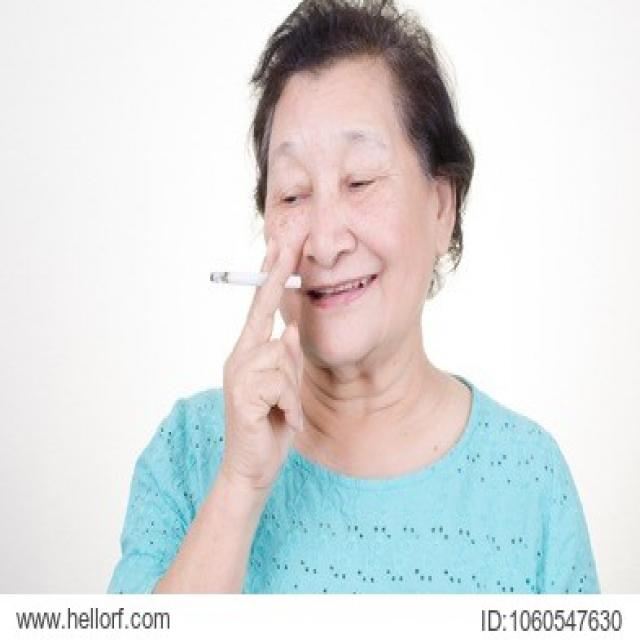smoke: (206, 265, 266, 289)
